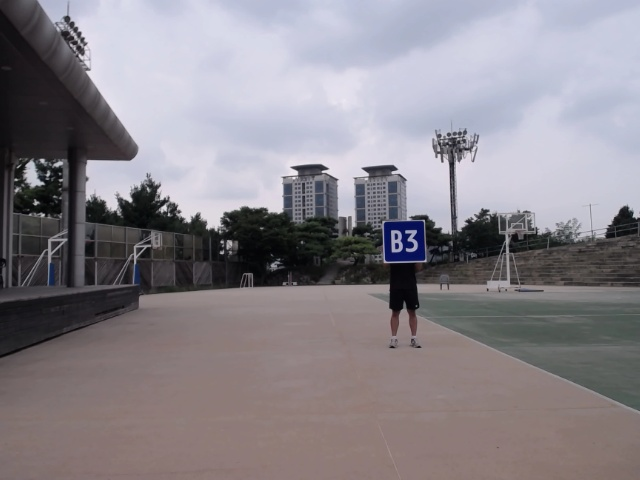delivery_b3: (382, 219, 427, 264)
